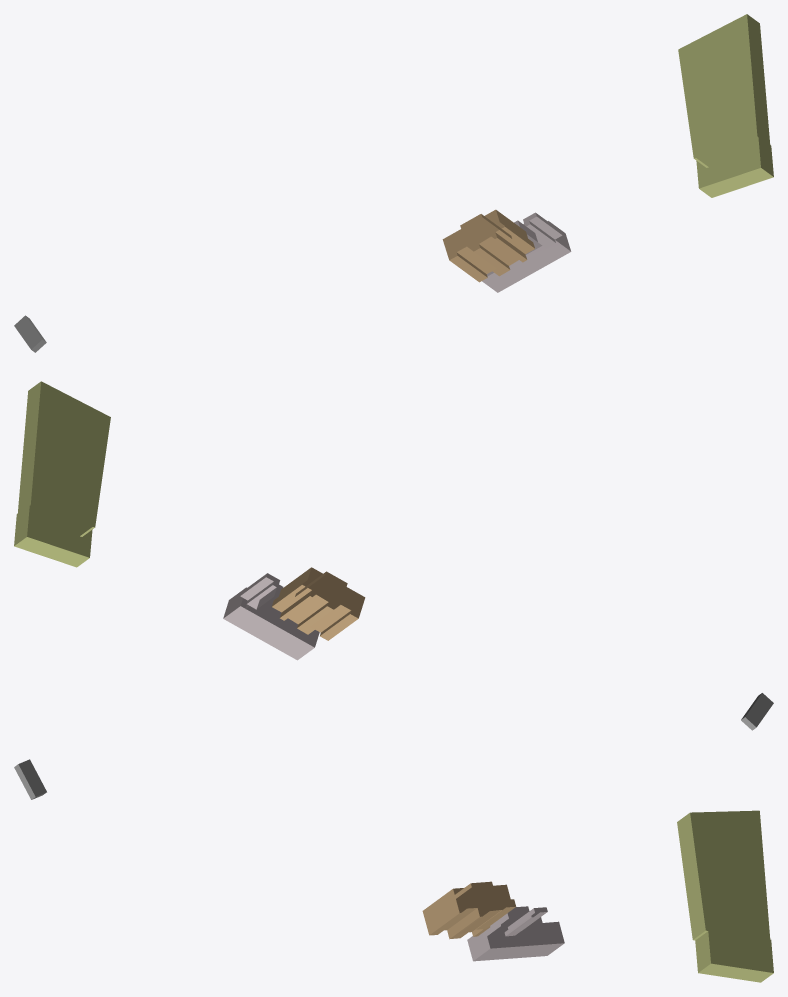
The picture shows the model from 3 angles, top to bottom: view 1: azimuth 30°, elevation 25°; view 2: azimuth 150°, elevation 25°; view 3: azimuth 330°, elevation 25°; orthographic projection.
Visible parts, largest first — view 1: 0_2_3_2_1_1; view 2: 0_2_3_2_1_1; view 3: 0_2_3_2_1_1.
Part boxes in pixels (bbox=[...]): 0_2_3_2_1_1: bbox=[14, 14, 773, 352]; 0_2_3_2_1_1: bbox=[14, 381, 773, 730]; 0_2_3_2_1_1: bbox=[14, 759, 773, 982].
Bounding box in the file's own units: 300 × 77.45 × 21.
